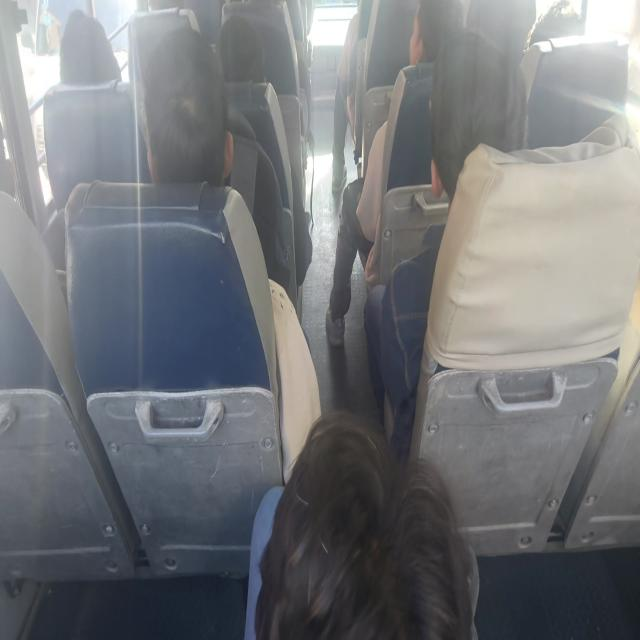person: (134, 26, 322, 481), (363, 28, 528, 460), (244, 410, 480, 638), (325, 0, 463, 347), (42, 9, 123, 209), (136, 26, 234, 186), (331, 8, 360, 194), (58, 9, 122, 85), (216, 15, 266, 83)
